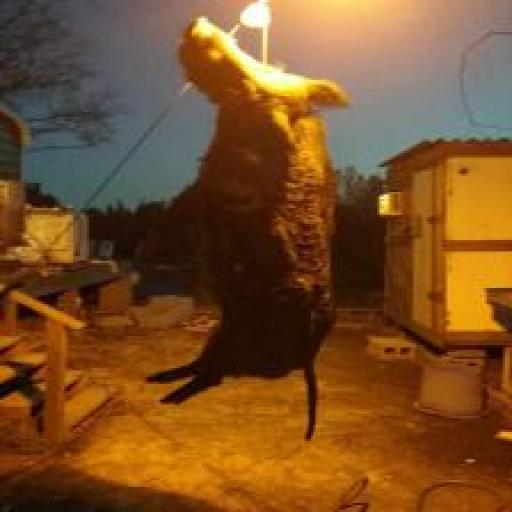Pig: (133, 18, 352, 441)
